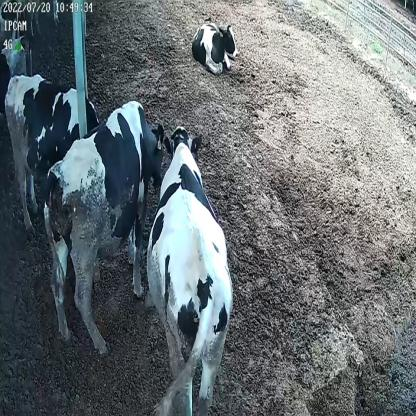cow: (43, 97, 166, 356), (144, 119, 236, 416), (3, 69, 108, 237), (192, 16, 239, 76)
